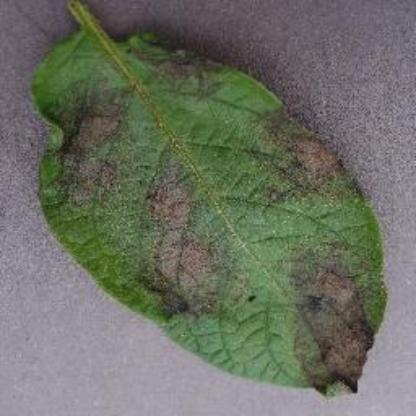Late-Blight: (27, 1, 390, 399)
